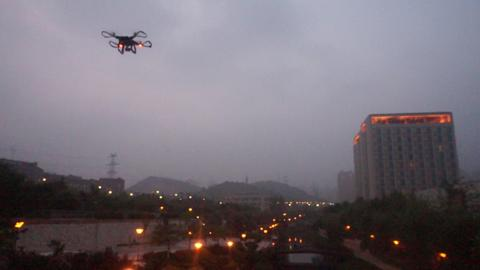UAV: (102, 31, 152, 56)
